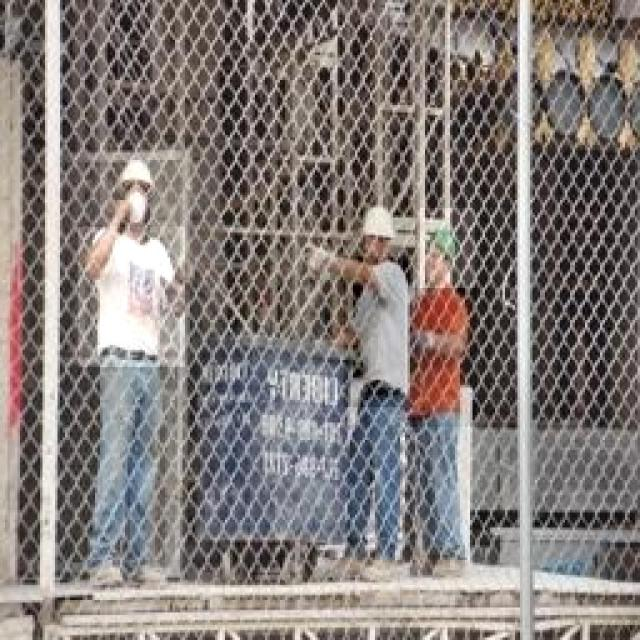Helmet: (79, 227, 185, 367), (405, 288, 477, 427), (344, 256, 408, 407), (100, 143, 176, 245), (338, 190, 414, 282), (420, 209, 475, 289)
